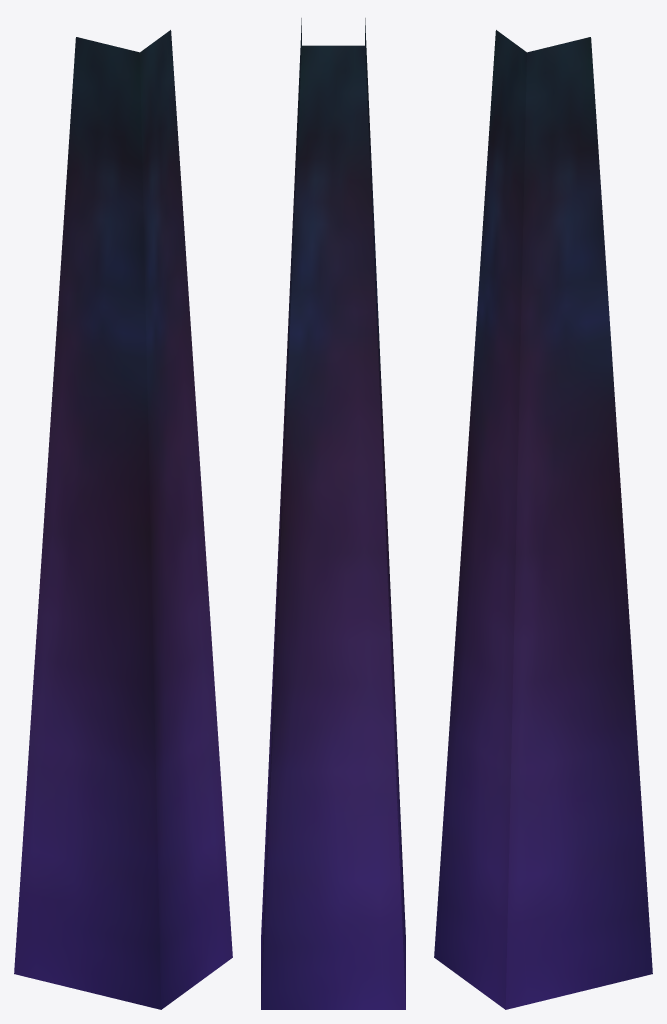
Rendered from treetrunk02.glb.
3 renders of one model, left to right at view 1: azimuth 30°, elevation 25°; view 2: azimuth 150°, elevation 25°; view 3: azimuth 270°, elevation 25°, orthographic.
Parts seen in each view (by area): view 1: treetrunk02; view 2: treetrunk02; view 3: treetrunk02.
Part boxes in pixels (x1,y1,x2,y2): treetrunk02: [14, 30, 232, 1009]; treetrunk02: [261, 18, 405, 1009]; treetrunk02: [434, 30, 652, 1009].
Bounding box in the file's own units: 216 × 1065 × 227.
1 material, 1 textured.
